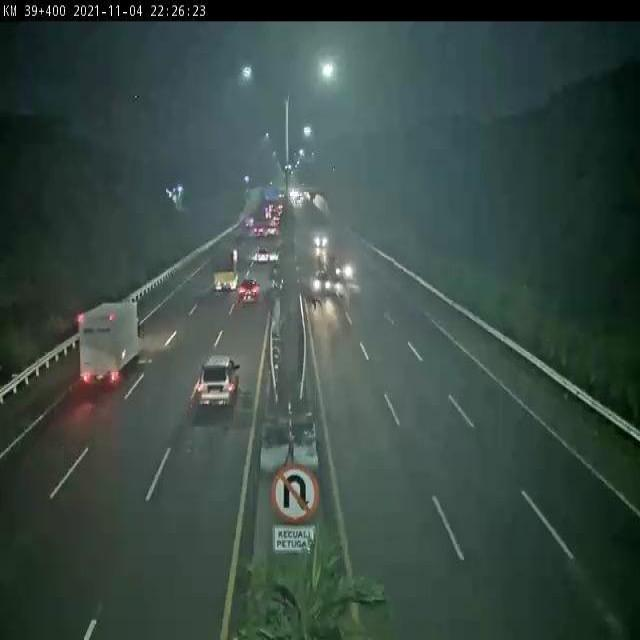car: (197, 356, 239, 403), (312, 270, 330, 294), (335, 256, 352, 281), (238, 280, 258, 299), (313, 229, 330, 247), (256, 248, 269, 264)
truck-m-: (79, 300, 141, 385), (213, 248, 241, 291)
